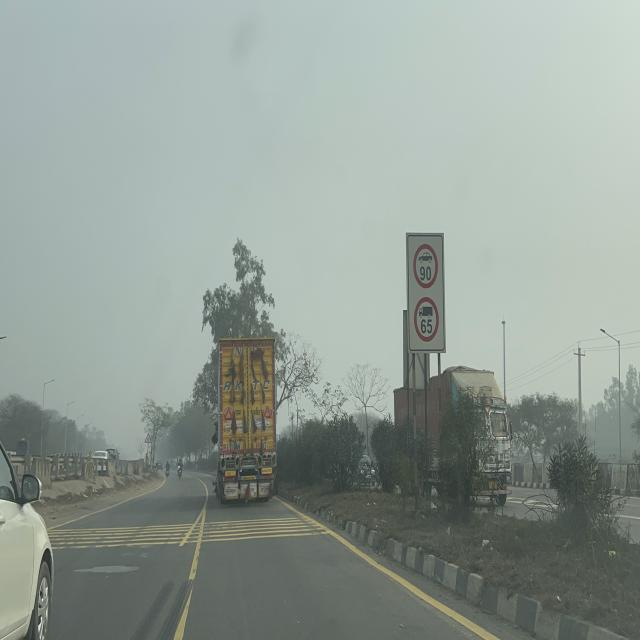ROAD_WIDENS_AHEAD: (144, 432, 152, 442)
